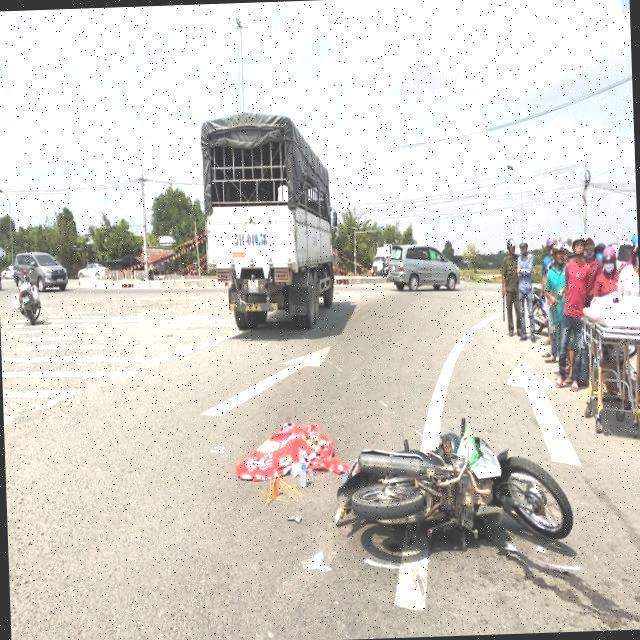accident: (305, 379, 588, 589)
